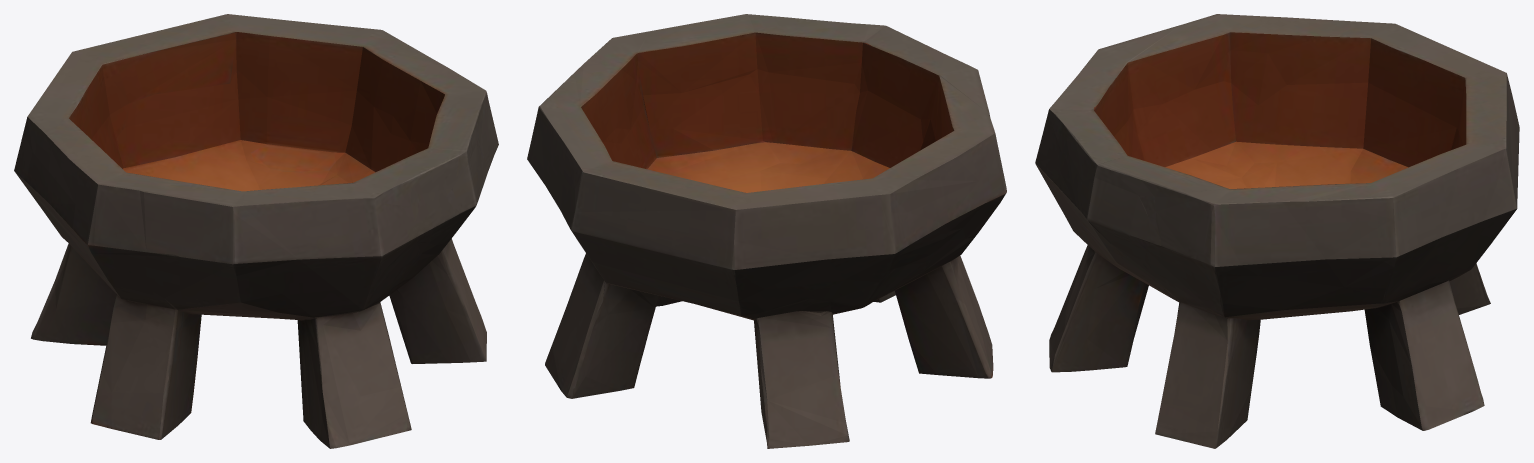
File: braises_brasero.glb
3 views of the same model, side by side, from view 1: azimuth 30°, elevation 25°; view 2: azimuth 150°, elevation 25°; view 3: azimuth 270°, elevation 25° (orthographic).
Visible parts, largest first — view 1: geometry_0; view 2: geometry_0; view 3: geometry_0.
Part boxes in pixels (x1,y1,x2,y2): geometry_0: (14,14,498,448); geometry_0: (527,14,1006,448); geometry_0: (1035,14,1519,448).
Bounding box in the file's own units: 0.9829 × 0.5699 × 0.9961.
1 material, 1 textured.
